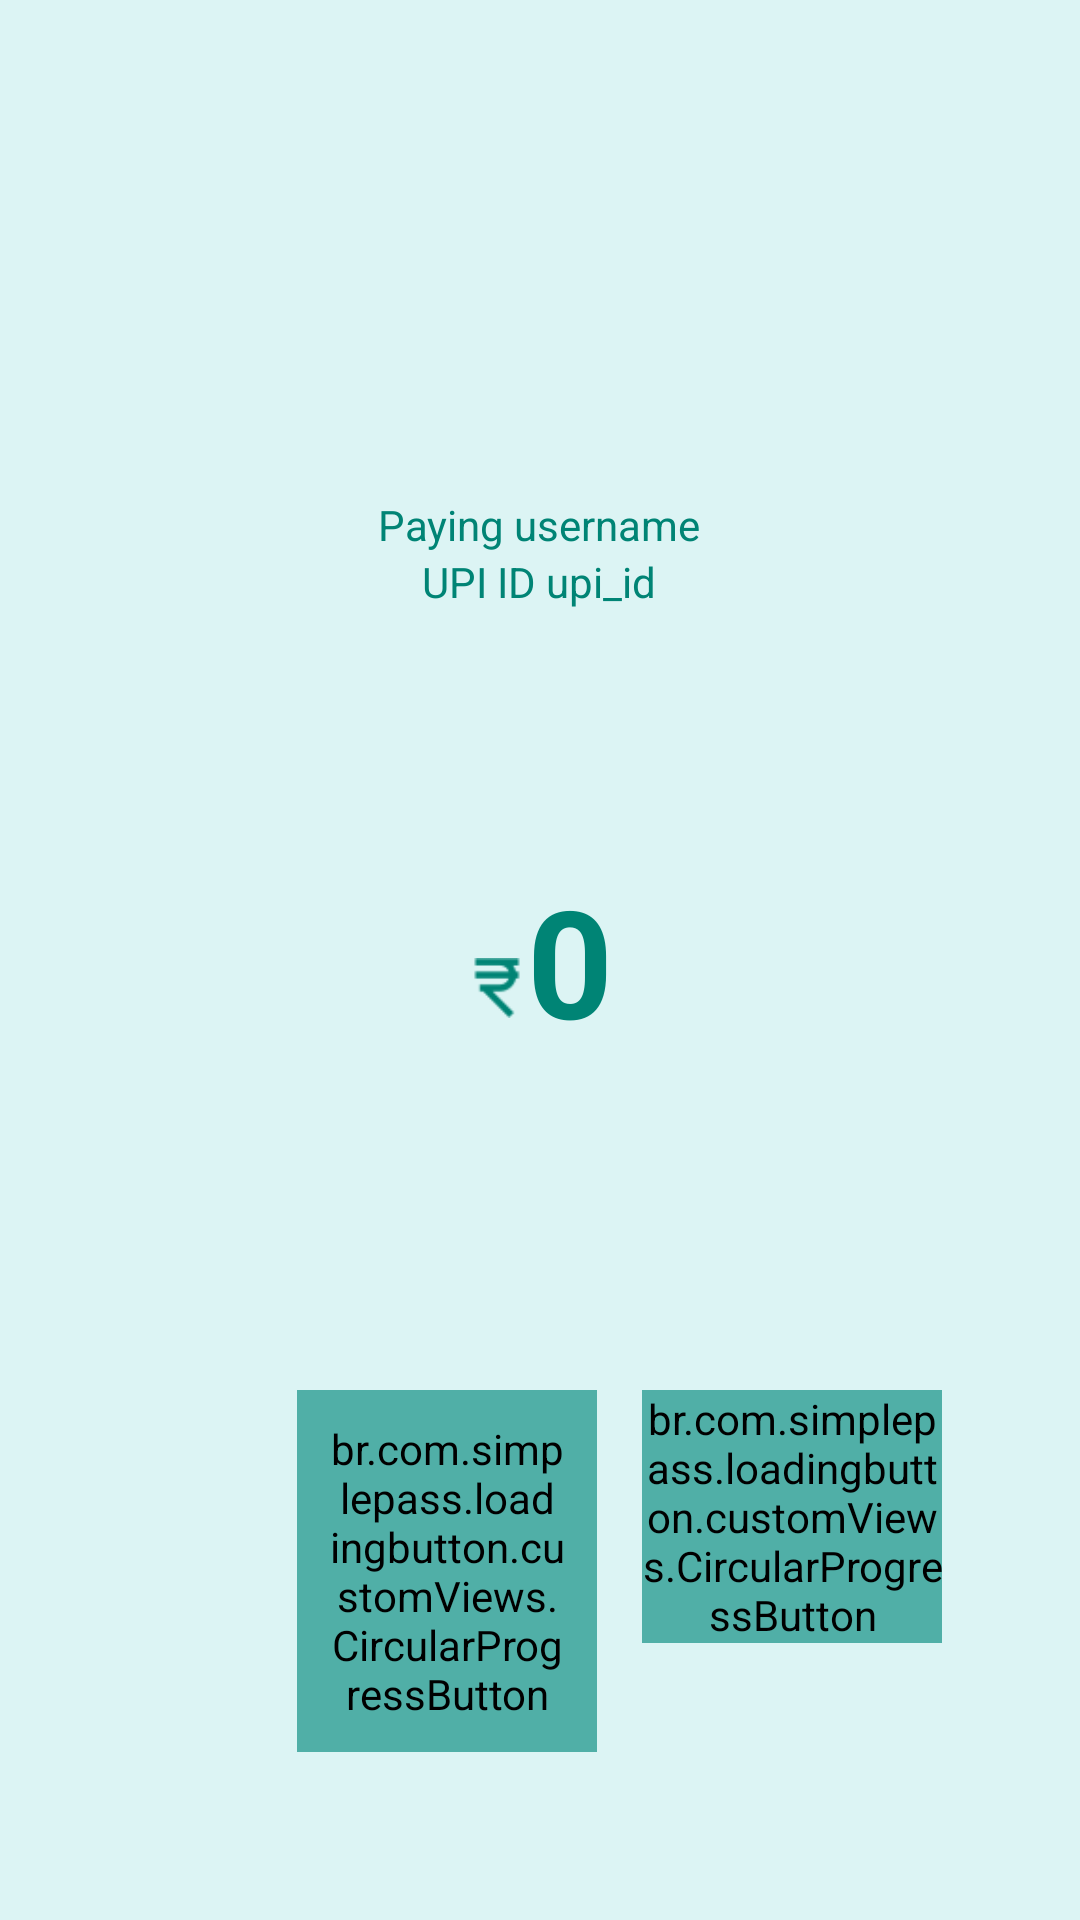

Screen size 1080×1920. Icon name, then its box in pixels as {"x1": x1, "y1": y1, "x2": x2, "y2": y2}:
rupee: {"x1": 474, "y1": 958, "x2": 520, "y2": 1018}
